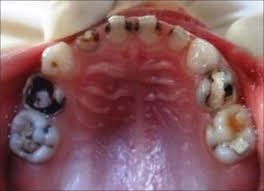Caries: (77, 14, 181, 46), (22, 67, 63, 115), (199, 68, 242, 106), (18, 116, 48, 160)
